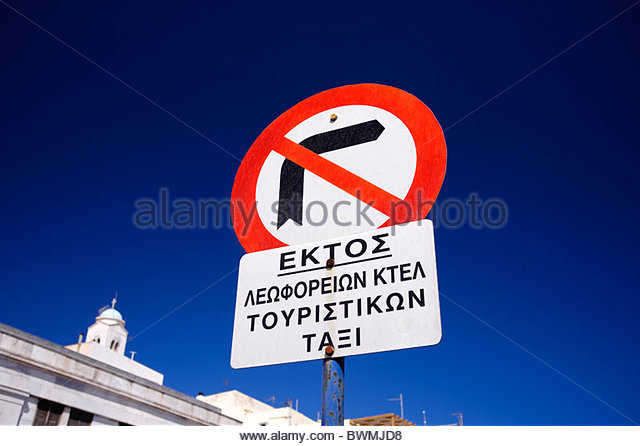No_right_turn: (229, 82, 449, 255)
